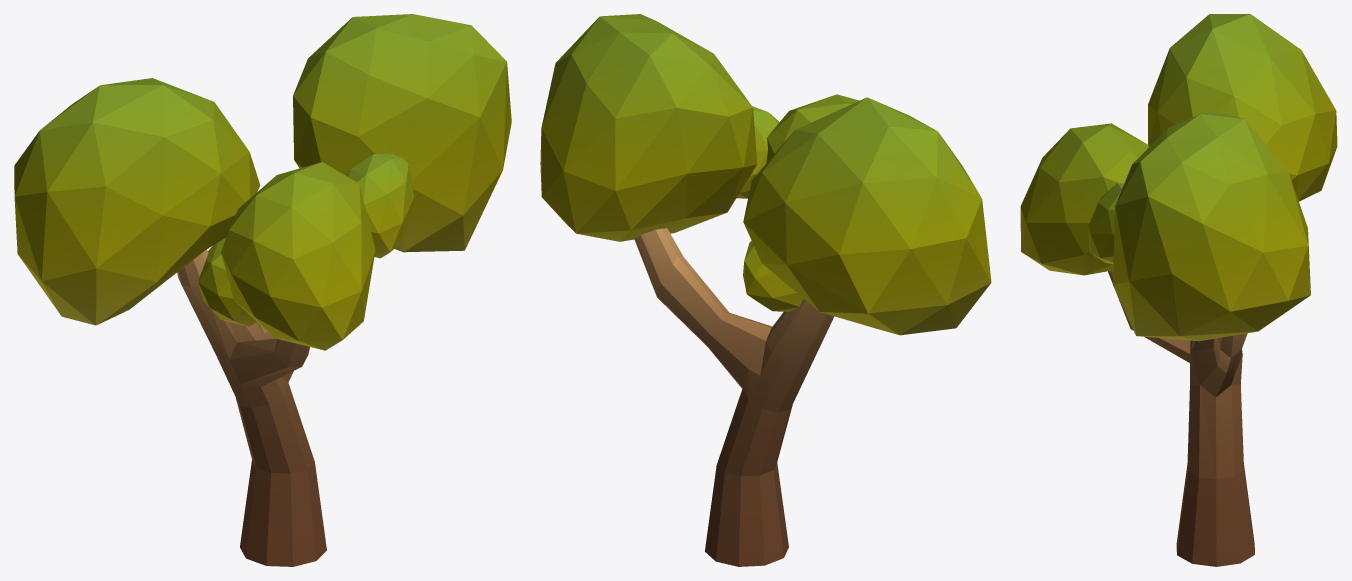
The model's file is Forest_Plant_008.FBX.
The picture shows the model from 3 angles, left to right: view 1: azimuth 30°, elevation 25°; view 2: azimuth 150°, elevation 25°; view 3: azimuth 270°, elevation 25°; orthographic projection. The views are drawn at different scales.
Parts seen in each view (by area): view 1: Forest_Plant_008; view 2: Forest_Plant_008; view 3: Forest_Plant_008.
Part boxes in pixels (bbox=[...]): Forest_Plant_008: bbox=[14, 14, 511, 566]; Forest_Plant_008: bbox=[540, 14, 991, 566]; Forest_Plant_008: bbox=[1020, 14, 1337, 566].
Bounding box in the file's own units: 1104 × 1178 × 713.
1 material, 1 textured.
